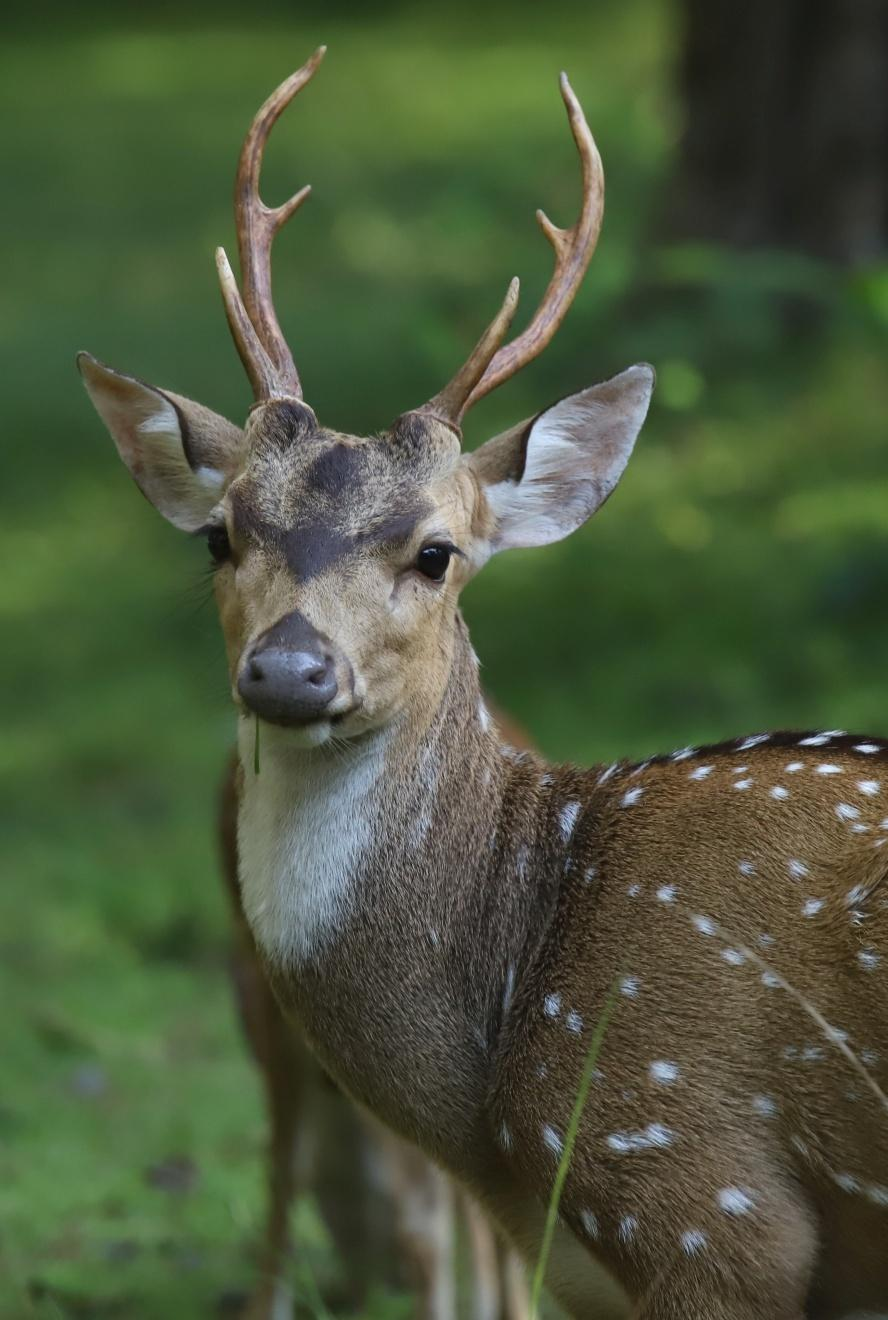Deer: (77, 48, 887, 1319)
